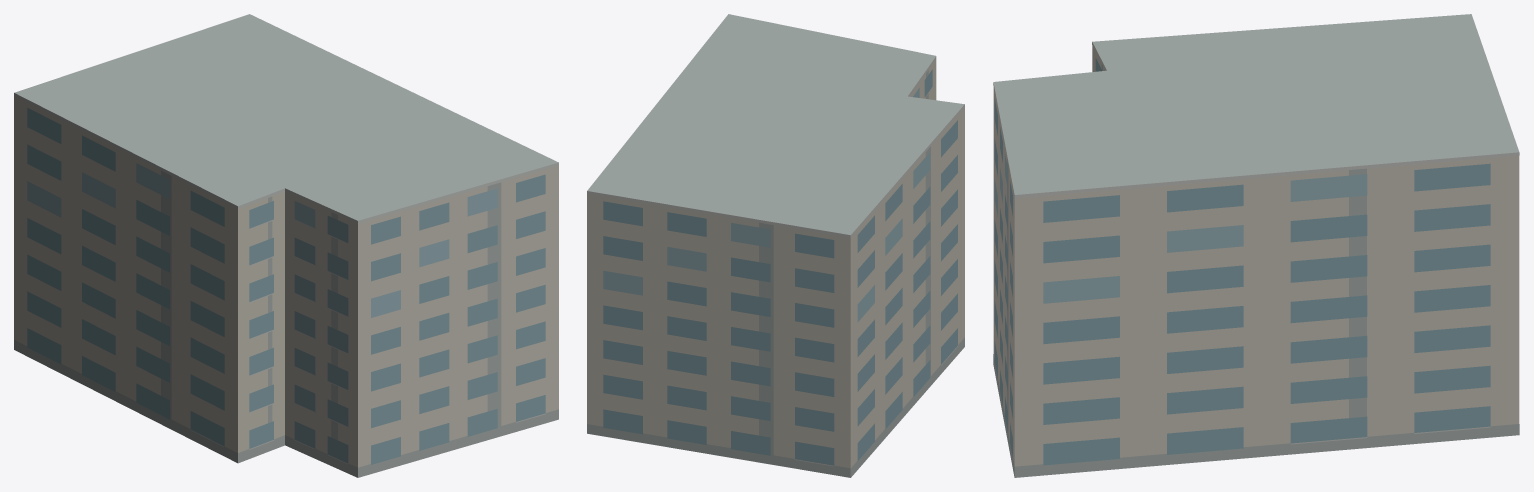
The model's file is survey-upis-32904548.glb.
The picture shows the model from 3 angles, left to right: view 1: azimuth 30°, elevation 25°; view 2: azimuth 150°, elevation 25°; view 3: azimuth 270°, elevation 25°; orthographic projection. The views are drawn at different scales.
Parts seen in each view (by area): view 1: survey-upis-32904548.tmp; view 2: survey-upis-32904548.tmp; view 3: survey-upis-32904548.tmp.
Part boxes in pixels (bbox=[...]): survey-upis-32904548.tmp: bbox=[14, 14, 558, 477]; survey-upis-32904548.tmp: bbox=[587, 14, 964, 477]; survey-upis-32904548.tmp: bbox=[993, 14, 1519, 477].
Size of the model in its own units: 28.15 by 20.5 by 34.56.
